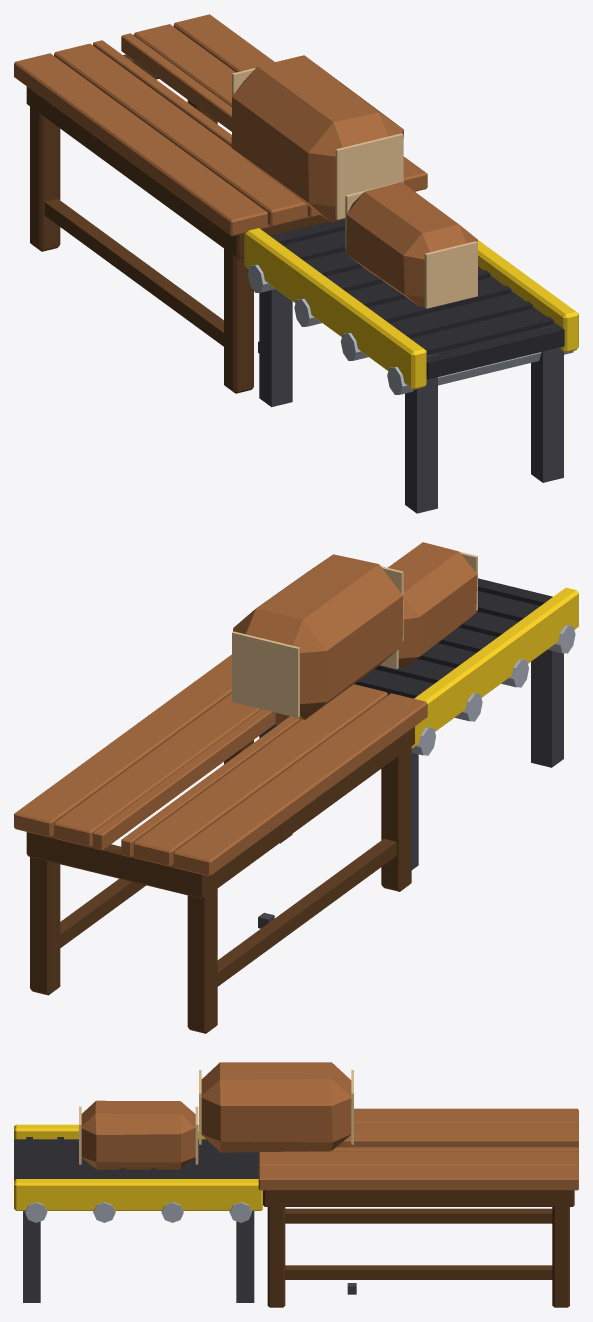
File: SawTable.fbx
3 renders of one model, top to bottom at view 1: azimuth 30°, elevation 25°; view 2: azimuth 150°, elevation 25°; view 3: azimuth 270°, elevation 25°, orthographic. The views are drawn at different scales.
Parts seen in each view (by area): view 1: Top, Log, Table, Belt, Iron, Rail, Rings, Metal; view 2: Top, Table, Log, Rail, Belt, Rings, Iron, Metal; view 3: Top, Log, Table, Rail, Belt, Iron, Metal, Rings.
Part boxes in pixels (x1=…): Top: x1=14, y1=14, x2=427, y2=236; Log: x1=231, y1=55, x2=477, y2=306; Table: x1=26, y1=54, x2=329, y2=393; Belt: x1=270, y1=219, x2=564, y2=379; Iron: x1=259, y1=289, x2=563, y2=513; Rail: x1=244, y1=228, x2=578, y2=389; Rings: x1=232, y1=68, x2=477, y2=308; Metal: x1=248, y1=264, x2=573, y2=394; Top: x1=14, y1=654, x2=427, y2=876; Table: x1=26, y1=726, x2=414, y2=1033; Log: x1=233, y1=542, x2=477, y2=719; Rail: x1=411, y1=587, x2=578, y2=748; Belt: x1=354, y1=578, x2=552, y2=698; Rings: x1=232, y1=551, x2=477, y2=717; Iron: x1=259, y1=649, x2=563, y2=869; Metal: x1=411, y1=625, x2=575, y2=755; Top: x1=258, y1=1108, x2=578, y2=1190; Log: x1=81, y1=1062, x2=351, y2=1169; Table: x1=263, y1=1190, x2=574, y2=1307; Rail: x1=14, y1=1124, x2=262, y2=1210; Belt: x1=14, y1=1137, x2=258, y2=1180; Iron: x1=23, y1=1211, x2=254, y2=1302; Metal: x1=25, y1=1202, x2=251, y2=1222; Rings: x1=79, y1=1070, x2=353, y2=1164.
Size of the model in its own units: 3.76 by 5.51 by 12.7.
